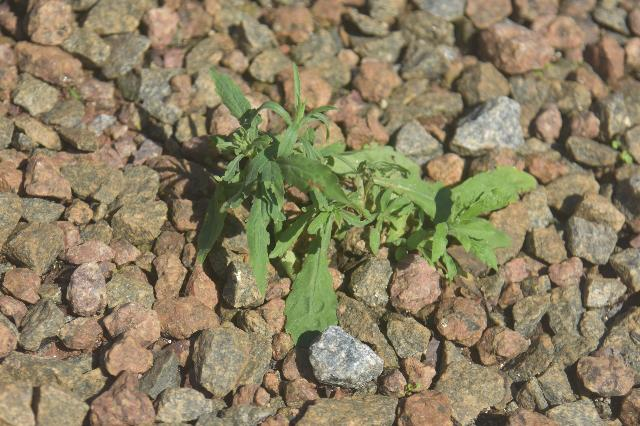MalezaMontesDelPlata: (190, 52, 364, 340), (347, 163, 539, 275)
